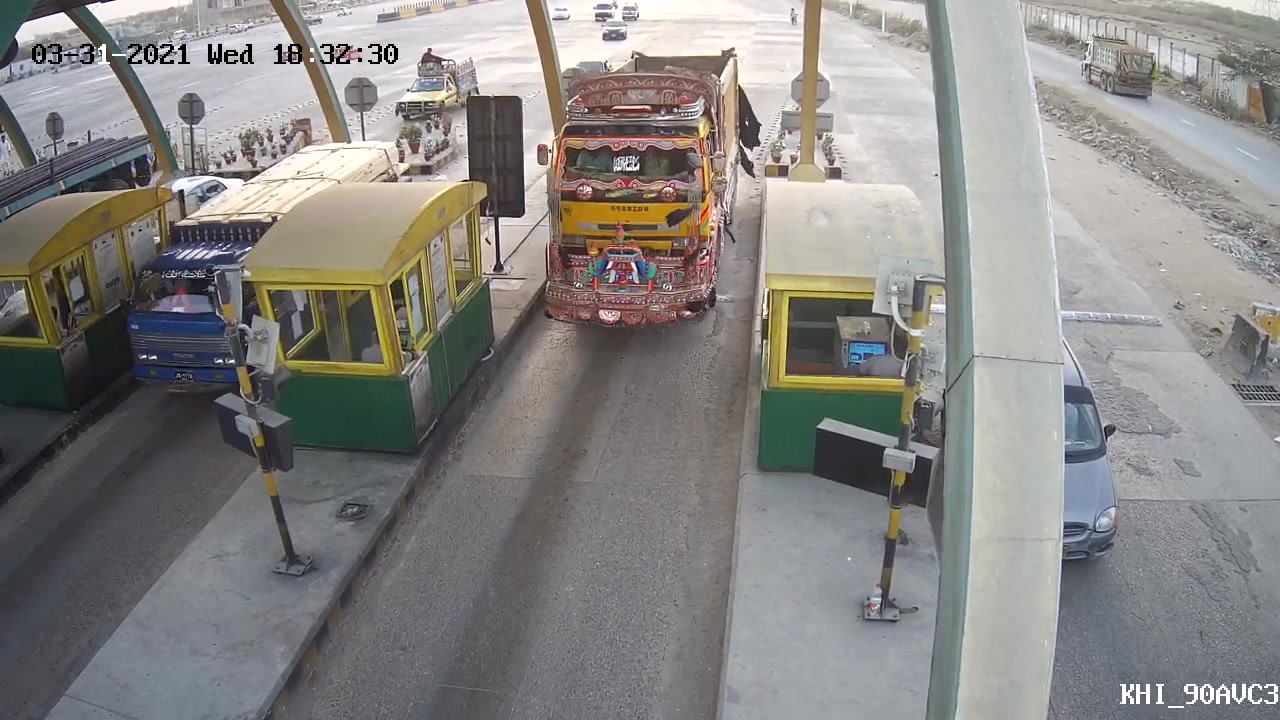F5: (520, 58, 731, 326)
